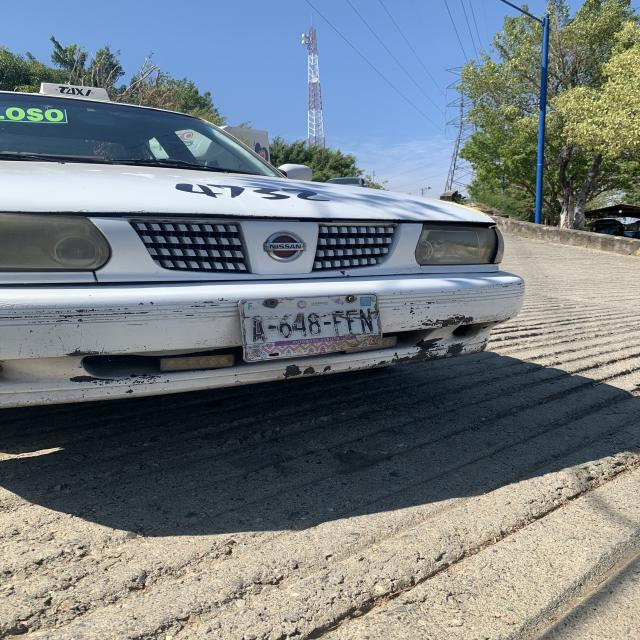placa: (241, 311, 379, 341)
